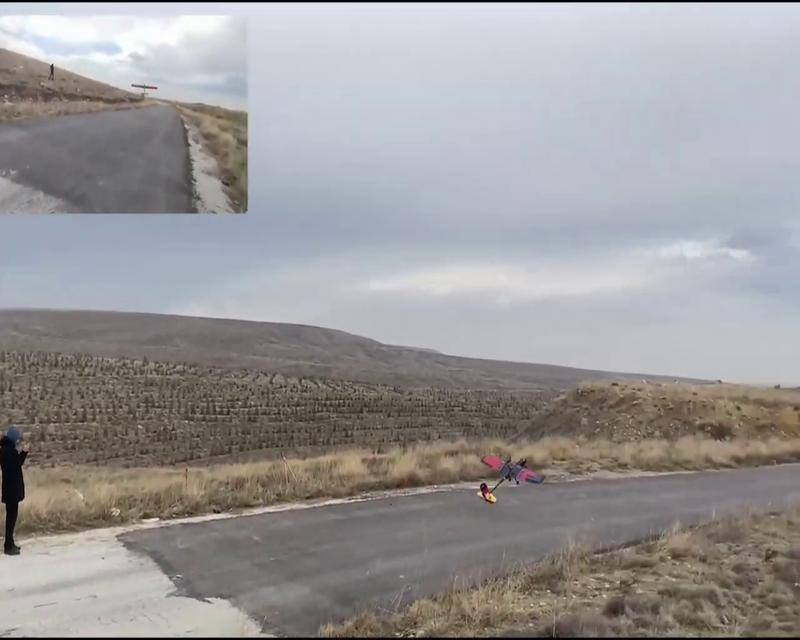UAV: (132, 82, 158, 93)
